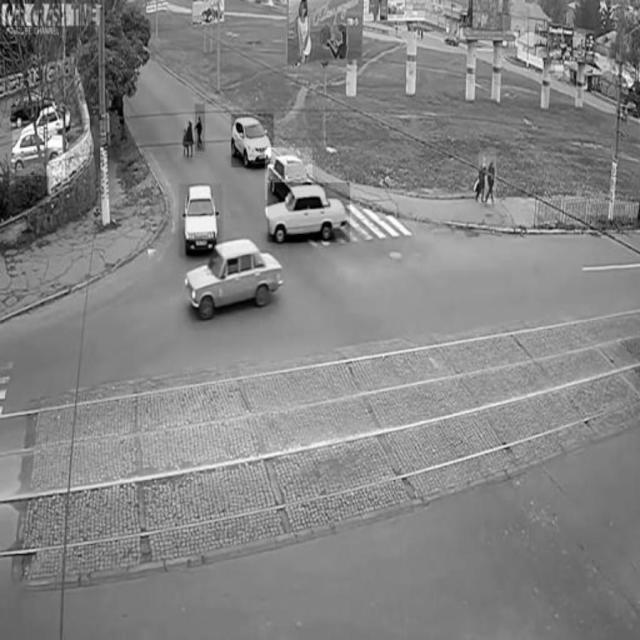person: (480, 152, 497, 204), (179, 114, 196, 159), (195, 104, 205, 151)
vehicle: (185, 242, 281, 314), (267, 183, 349, 243), (179, 184, 223, 257), (13, 121, 65, 176), (265, 148, 312, 200), (232, 114, 274, 168)
